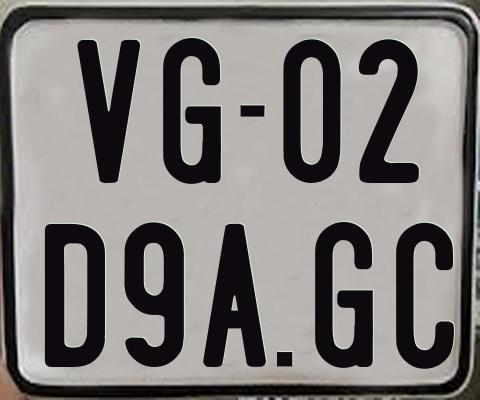0: (283, 36, 343, 181)
2: (357, 36, 419, 180)
9: (124, 221, 188, 368)
A: (202, 221, 267, 368)
C: (395, 223, 458, 371)
D: (43, 224, 103, 372)
G: (312, 220, 375, 372), (163, 36, 222, 184)
V: (76, 39, 144, 188)
